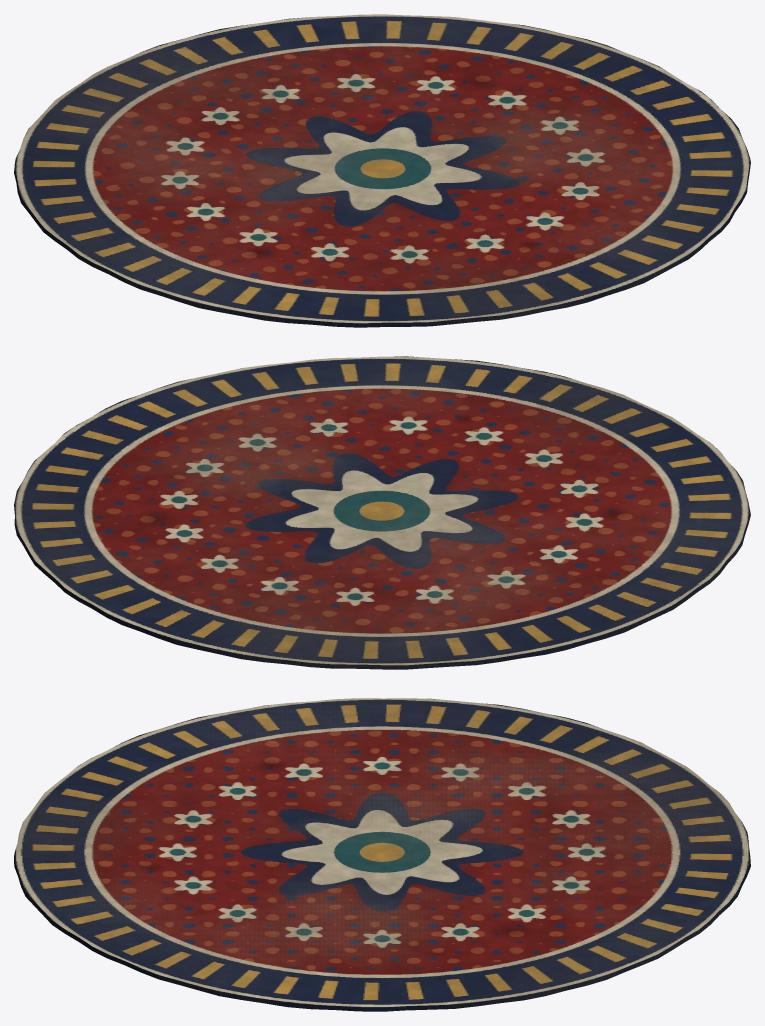
File: rug-round.glb
The picture shows the model from 3 angles, top to bottom: view 1: azimuth 30°, elevation 25°; view 2: azimuth 150°, elevation 25°; view 3: azimuth 270°, elevation 25°; orthographic projection.
Visible parts, largest first — view 1: rug-round; view 2: rug-round; view 3: rug-round.
Part boxes in pixels (box(x1,y1,x2,y2)): rug-round: box(14, 14, 750, 327); rug-round: box(14, 356, 750, 669); rug-round: box(14, 698, 750, 1011).
Size of the model in its own units: 2 by 0.012 by 2.01.
1 material, 1 textured.
